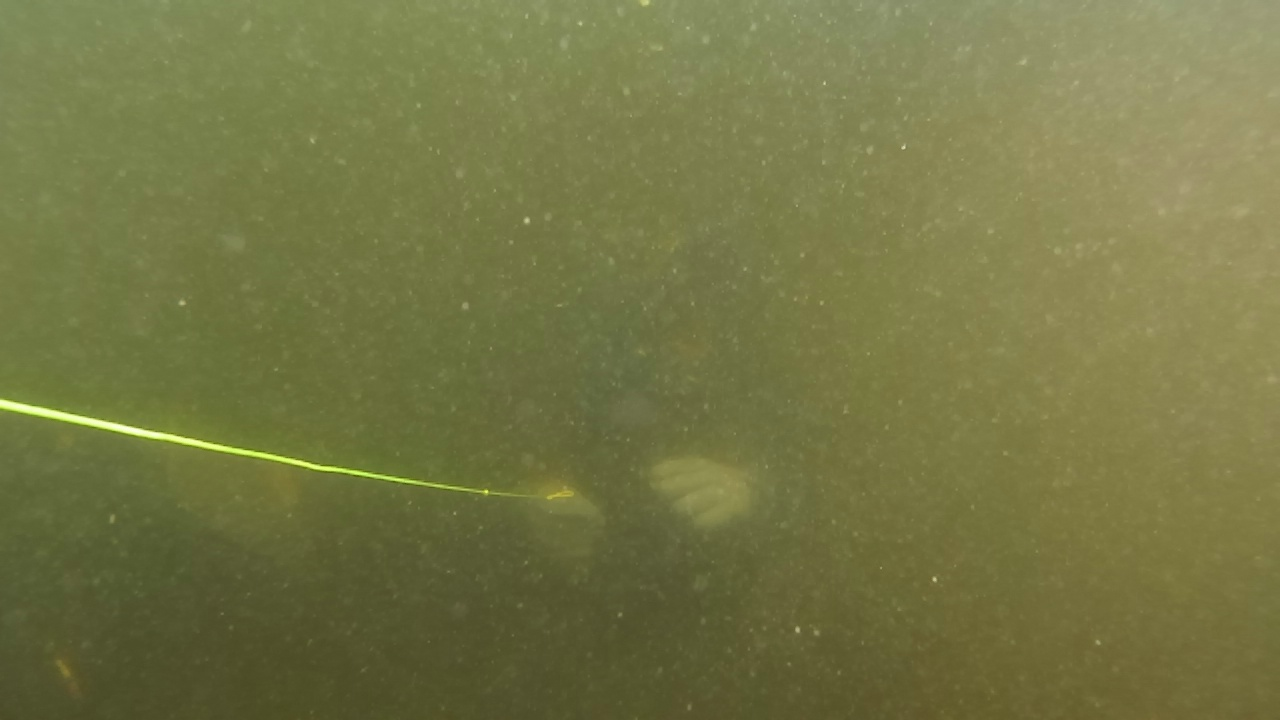Diver: (448, 220, 784, 614)
Hand: (632, 432, 770, 560), (500, 466, 606, 588)
